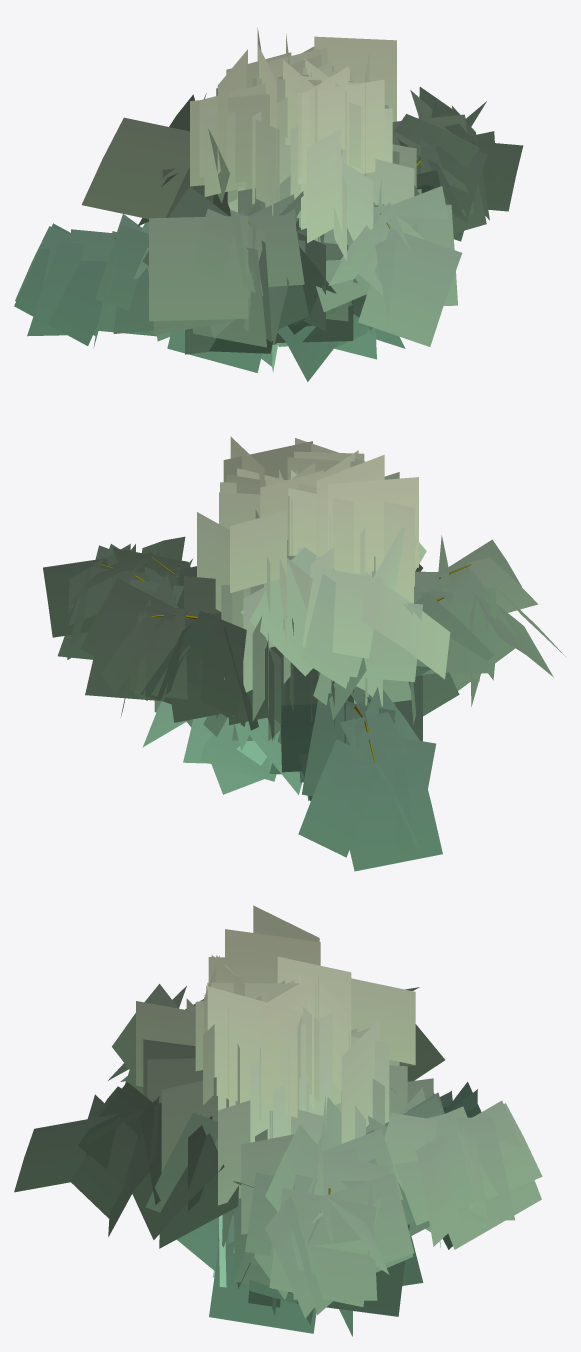
File: bush_birch.glb
3 renders of one model, top to bottom at view 1: azimuth 30°, elevation 25°; view 2: azimuth 150°, elevation 25°; view 3: azimuth 270°, elevation 25°, orthographic. The views are drawn at different scales.
Parts seen in each view (by area): view 1: LOD0; view 2: LOD0; view 3: LOD0.
Boxes of the visible parts, x1,y1,x2,y2 form: LOD0: (14,27,523,381); LOD0: (43,436,566,871); LOD0: (14,905,542,1336).
Size of what is drawn, in the model's own units: 4.46 by 2.9 by 4.
